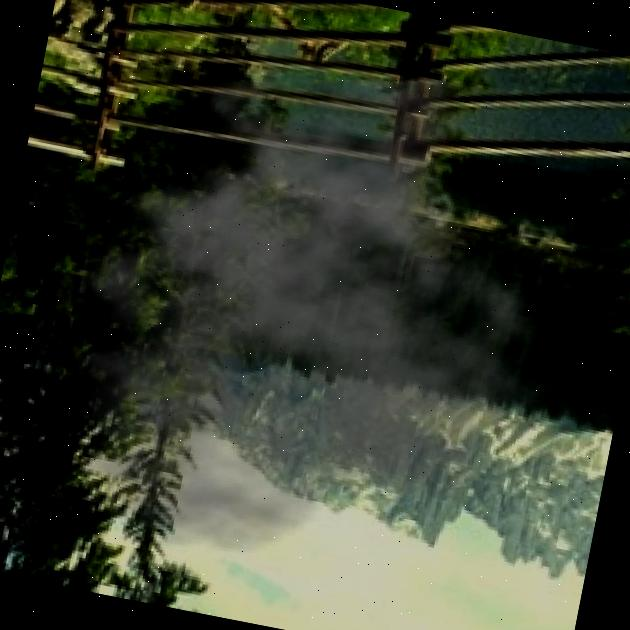smoke: (0, 4, 607, 614)
